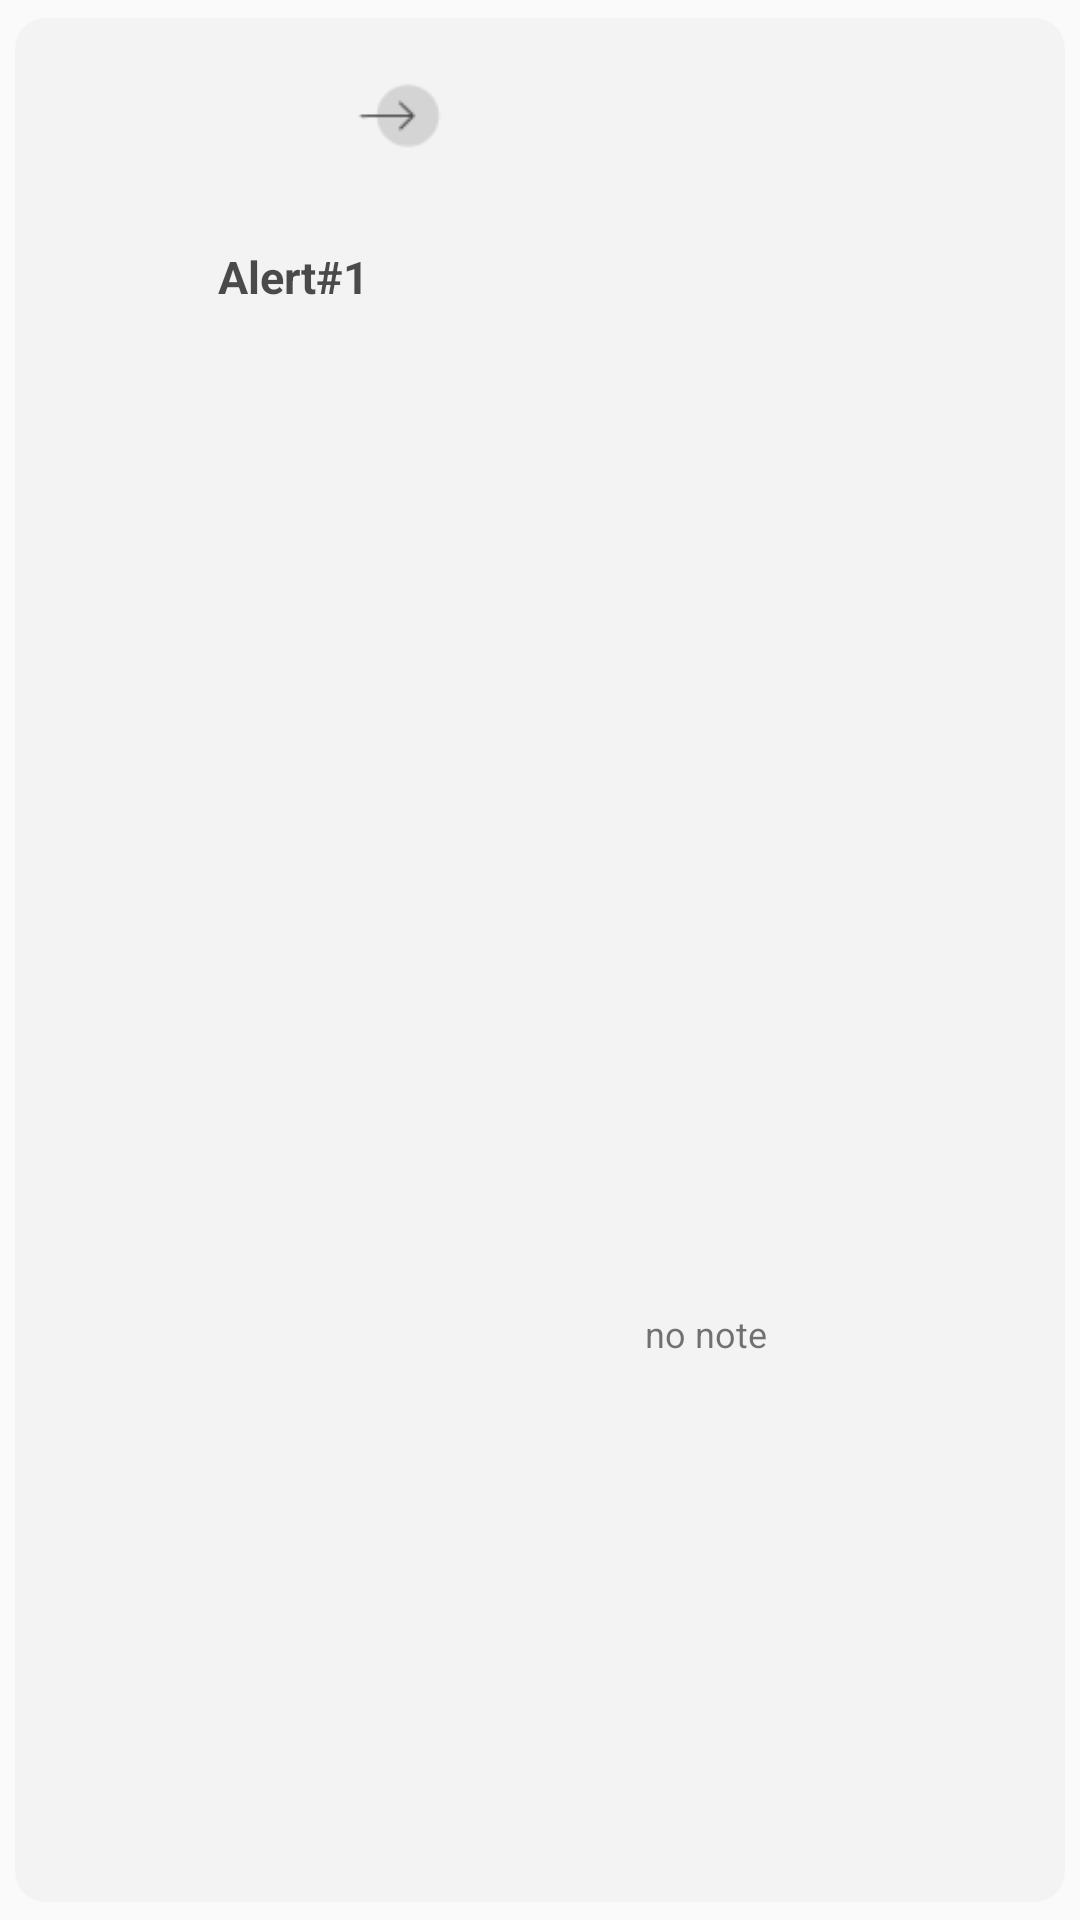

Icon click points for this 1080*1920 phone screenshot, format point (x, y):
get in: point (398, 115)
